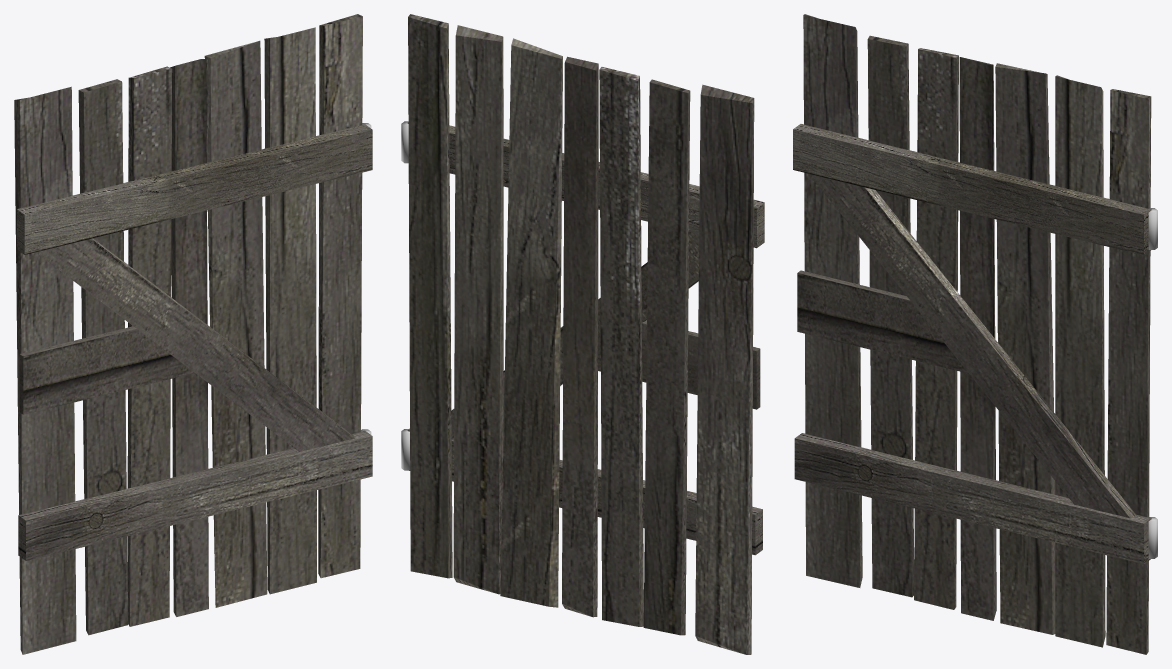
File: Gate_B.fbx
3 renders of one model, left to right at view 1: azimuth 30°, elevation 25°; view 2: azimuth 150°, elevation 25°; view 3: azimuth 330°, elevation 25°, orthographic.
Visible parts, largest first — view 1: Gate_B; view 2: Gate_B; view 3: Gate_B.
Part boxes in pixels (left/top/right/bottom): Gate_B: left=14, top=14, right=372, bottom=654; Gate_B: left=401, top=14, right=764, bottom=654; Gate_B: left=793, top=14, right=1157, bottom=654.
Bounding box in the file's own units: 186 × 280 × 10.03.
